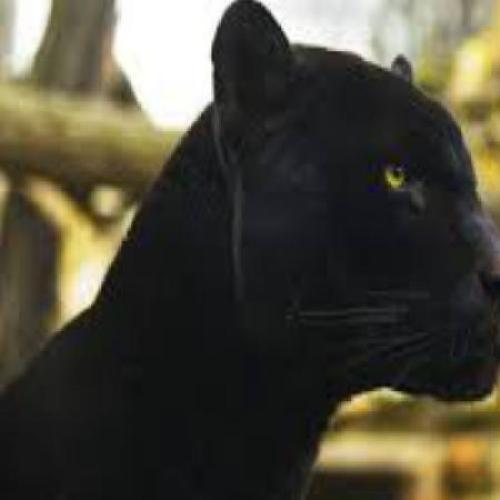panther-endangered: (20, 5, 495, 488)
